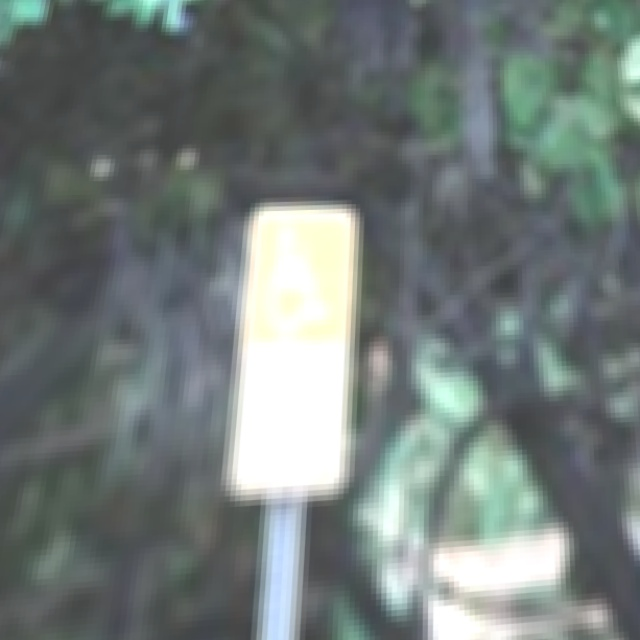ISA: (266, 222, 331, 334)
